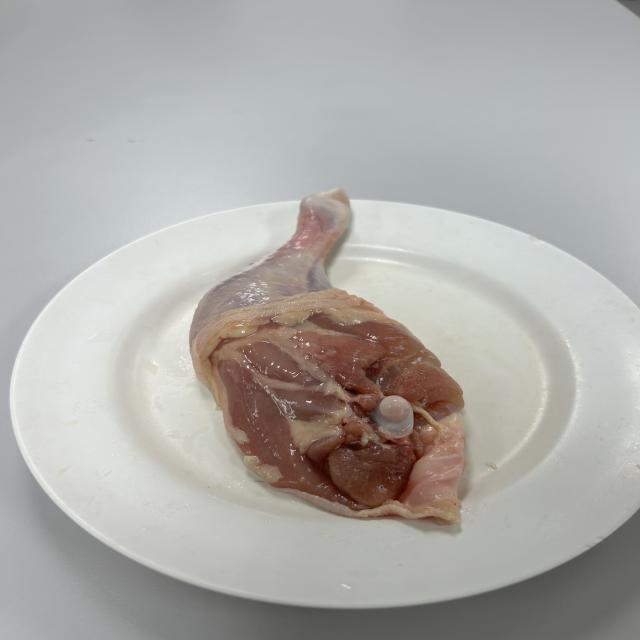quater: (196, 182, 481, 534)
